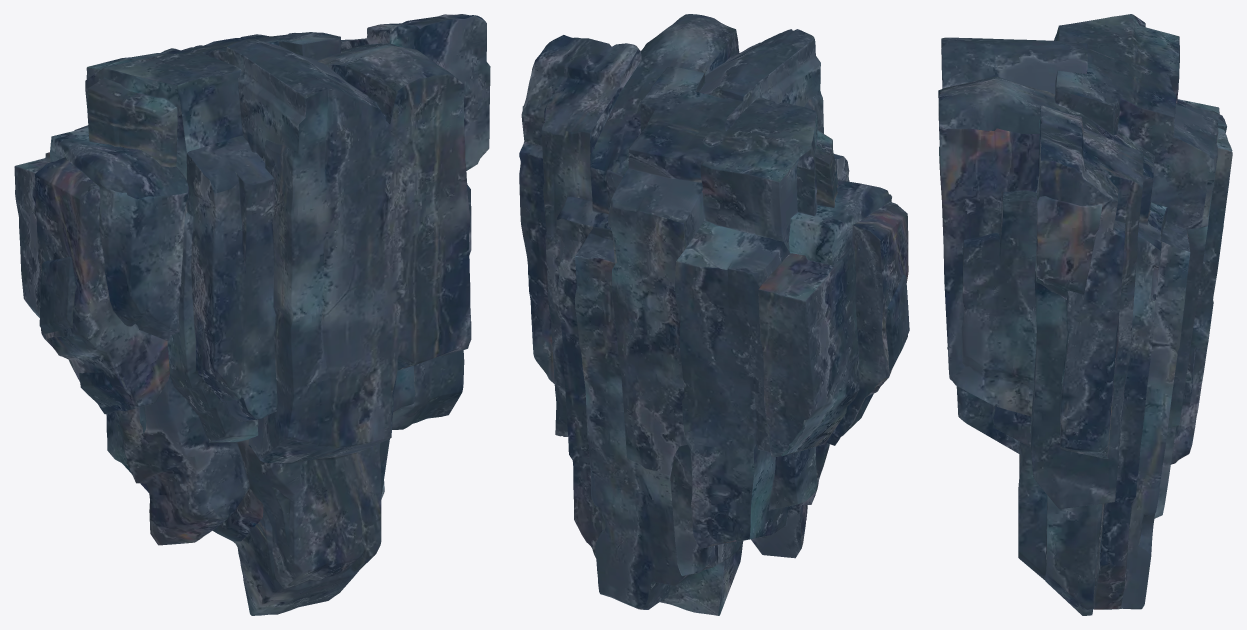
The picture shows the model from 3 angles, left to right: view 1: azimuth 30°, elevation 25°; view 2: azimuth 150°, elevation 25°; view 3: azimuth 270°, elevation 25°; orthographic projection. The views are drawn at different scales.
Visible parts, largest first — view 1: SM_Cave_Rock_Wall_02_LOD0; view 2: SM_Cave_Rock_Wall_02_LOD0; view 3: SM_Cave_Rock_Wall_02_LOD0.
Part boxes in pixels (<box>): SM_Cave_Rock_Wall_02_LOD0: <box>14,14,490,615</box>; SM_Cave_Rock_Wall_02_LOD0: <box>519,14,909,615</box>; SM_Cave_Rock_Wall_02_LOD0: <box>938,14,1232,615</box>.
Bounding box in the file's own units: 9.27 × 12.62 × 6.24.
1 material, 1 textured.
